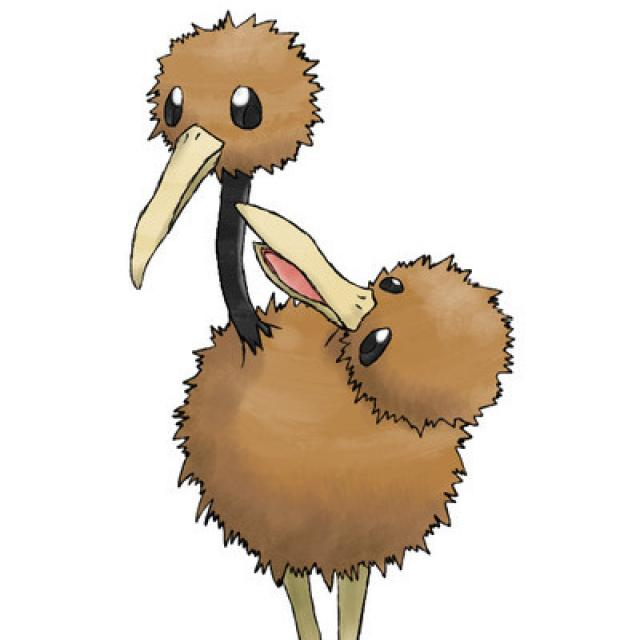Doduo: (122, 10, 520, 640)
